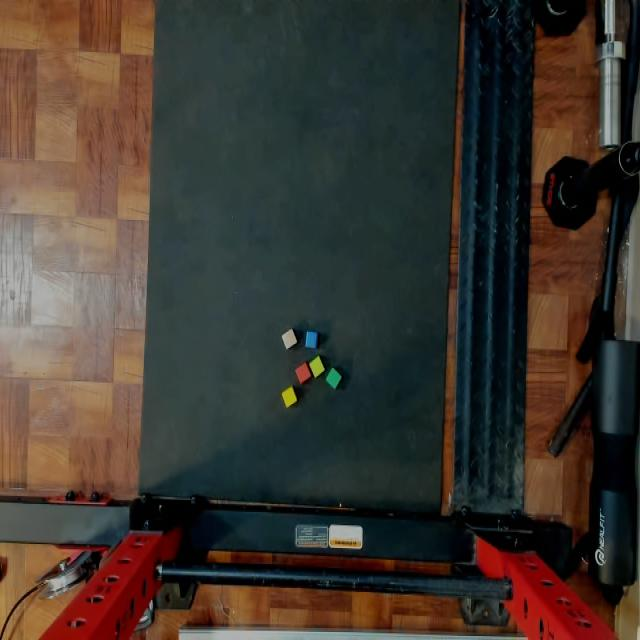block: (282, 385, 297, 407), (309, 355, 324, 377), (296, 363, 311, 383), (326, 368, 341, 388), (283, 329, 297, 348), (305, 331, 317, 348)
